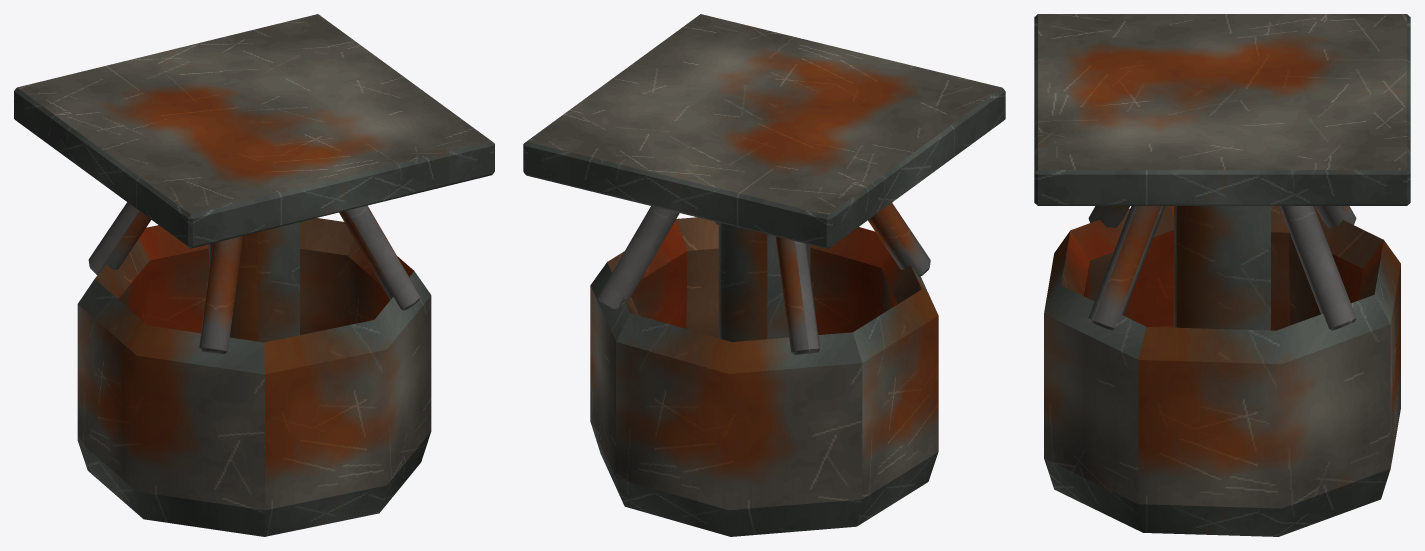
The model's file is R4M_HoverEngine_LOD1.glb.
3 renders of one model, left to right at view 1: azimuth 30°, elevation 25°; view 2: azimuth 150°, elevation 25°; view 3: azimuth 270°, elevation 25°, orthographic. The views are drawn at different scales.
Parts seen in each view (by area): view 1: R4M_HoverEngine_LOD1; view 2: R4M_HoverEngine_LOD1; view 3: R4M_HoverEngine_LOD1.
Part boxes in pixels (x1=…): R4M_HoverEngine_LOD1: x1=14, y1=14, x2=494, y2=536; R4M_HoverEngine_LOD1: x1=523, y1=14, x2=1005, y2=536; R4M_HoverEngine_LOD1: x1=1034, y1=14, x2=1410, y2=536.
Bounding box in the file's own units: 0.52 × 0.577 × 0.52.
5 materials, 4 textured.
